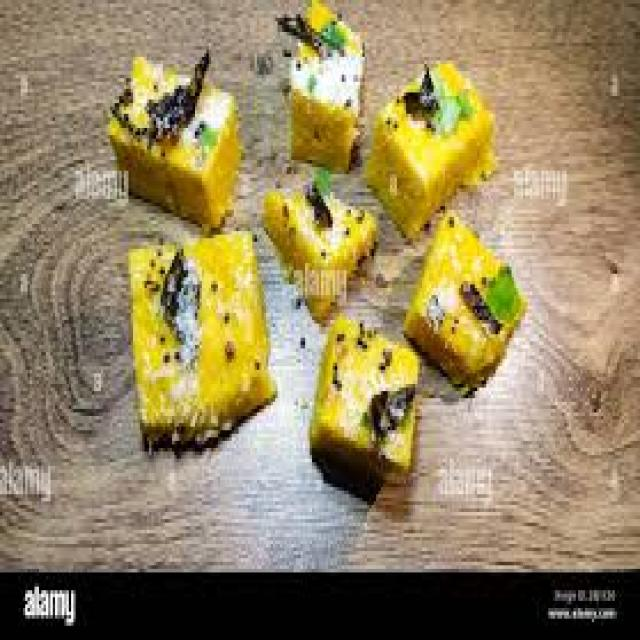DHOKLA: (131, 231, 275, 444), (110, 50, 241, 228), (367, 60, 495, 238), (310, 316, 417, 498), (275, 0, 362, 167)
